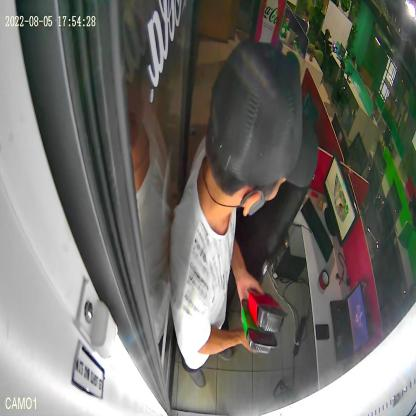green: (241, 298, 278, 354)
red: (246, 288, 288, 333)
